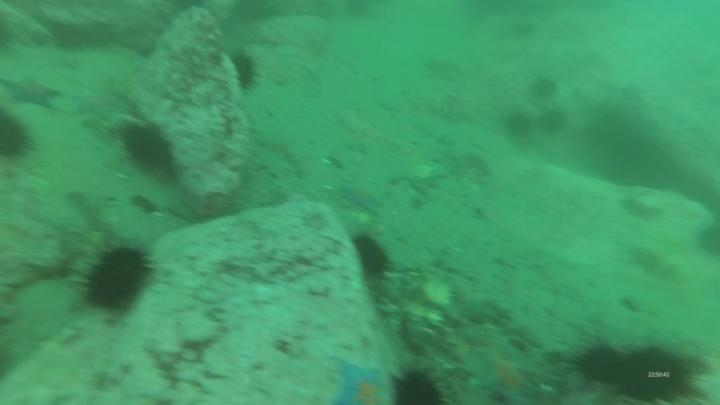echinus: (63, 244, 153, 319), (615, 344, 699, 405), (571, 339, 628, 391), (383, 366, 453, 405), (121, 122, 172, 173), (352, 230, 393, 283), (1, 107, 36, 166), (229, 51, 260, 93), (500, 107, 534, 144), (49, 22, 89, 53), (692, 219, 720, 261), (538, 104, 572, 135), (527, 76, 563, 104), (507, 20, 538, 43)
starfish: (472, 344, 546, 400), (323, 351, 391, 405), (1, 76, 65, 116), (67, 91, 122, 122), (338, 184, 385, 216)
